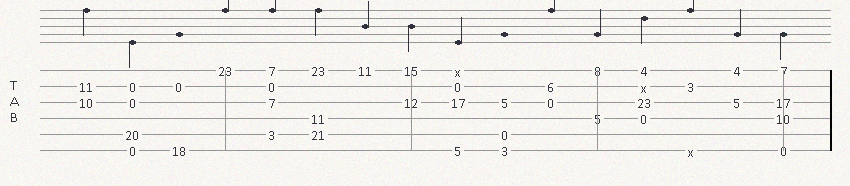0: (129, 80, 140, 93), (129, 96, 140, 109), (129, 144, 140, 157), (175, 80, 186, 93), (268, 80, 279, 93), (454, 80, 465, 93), (501, 128, 512, 141), (547, 96, 558, 109), (640, 112, 651, 125), (780, 144, 791, 157)
10: (79, 96, 97, 109), (776, 112, 794, 125)
11: (79, 80, 97, 93), (311, 112, 329, 125), (358, 64, 376, 77)
12: (404, 96, 422, 109)
15: (404, 64, 422, 77)
17: (451, 96, 469, 109), (776, 96, 794, 109)
18: (172, 144, 190, 157)
20: (125, 128, 143, 141)
21: (311, 128, 329, 141)
23: (218, 64, 236, 77), (311, 64, 329, 77), (637, 96, 655, 109)
3: (268, 128, 279, 141), (501, 144, 512, 157), (687, 80, 698, 93)
4: (640, 64, 651, 77), (733, 64, 744, 77)
5: (454, 144, 465, 157), (501, 96, 512, 109), (594, 112, 605, 125), (733, 96, 744, 109)
6: (547, 80, 558, 93)
7: (268, 64, 279, 77), (268, 96, 279, 109), (780, 64, 791, 77)
8: (594, 64, 605, 77)
x: (454, 65, 465, 76), (640, 81, 651, 92), (687, 145, 698, 156)
